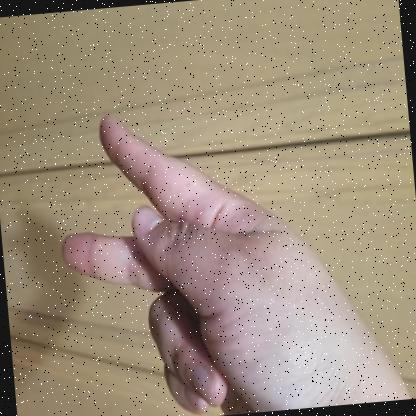P: (62, 116, 371, 415)
